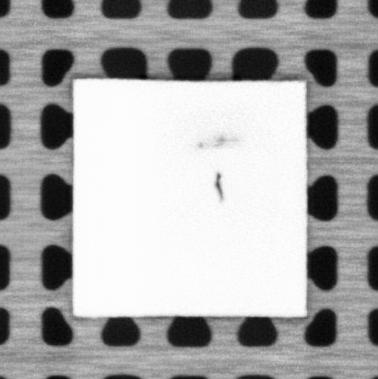DIE_INK: (197, 131, 236, 150), (213, 170, 225, 202)
